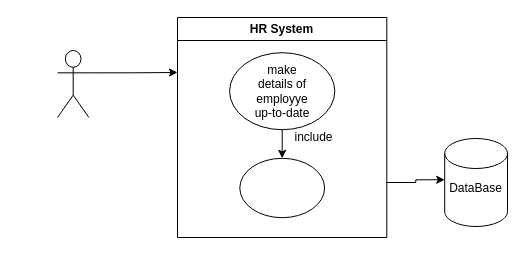
Some shapes in this 526 by 255 pixel diagram are drawn without their labels. Here are the shapes that lost their labels. From the top down, the centre of each, then its label:
At [72,84]: "Department manager".
At [282,187]: "update data in db".
